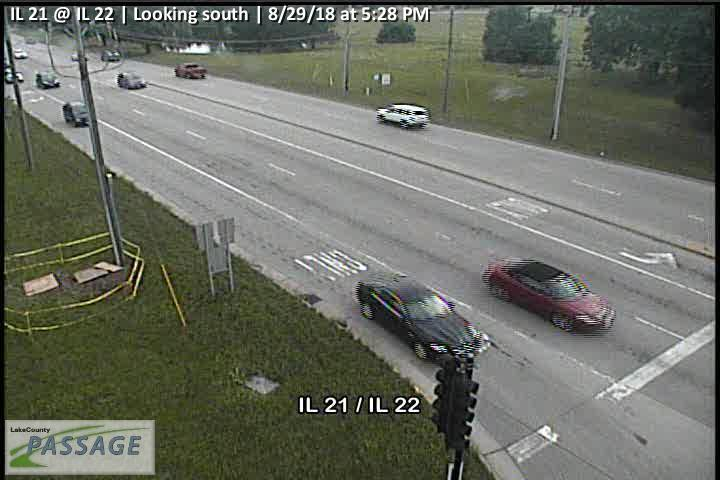SUV: (376, 103, 428, 129), (62, 101, 91, 127), (118, 70, 147, 89), (174, 62, 208, 78), (35, 70, 61, 88), (101, 49, 121, 61)
Sedan: (356, 271, 490, 365), (484, 257, 616, 332)
